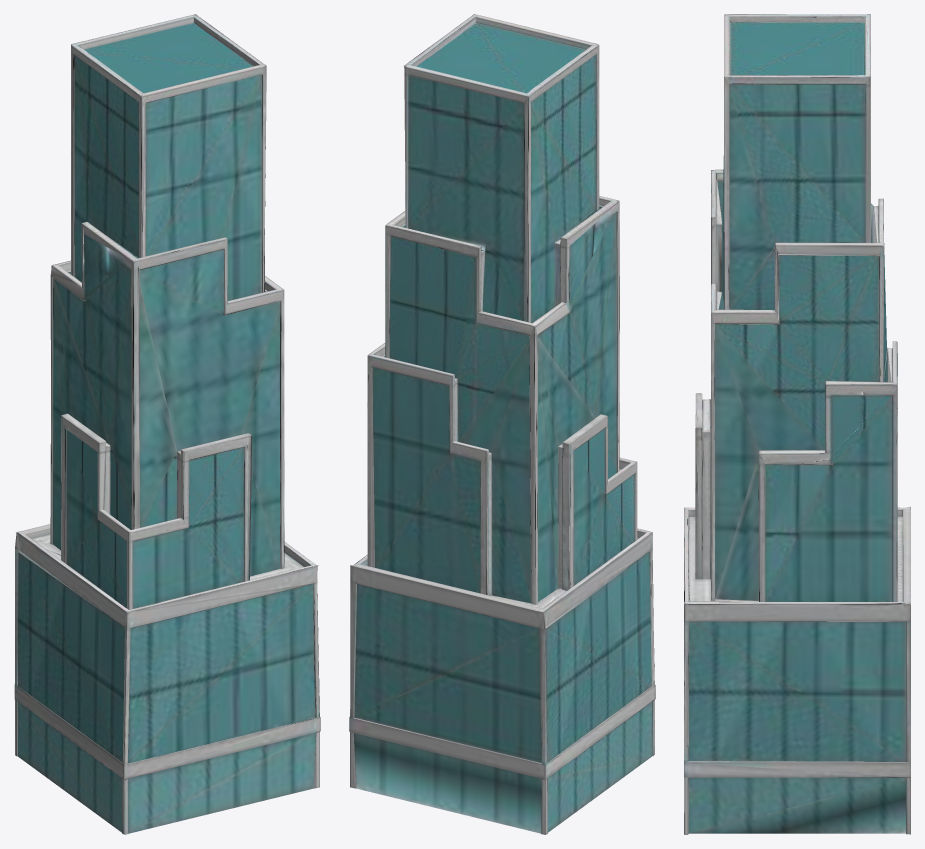
The model's file is 15-glass-skyscraper.glb.
The picture shows the model from 3 angles, left to right: view 1: azimuth 30°, elevation 25°; view 2: azimuth 150°, elevation 25°; view 3: azimuth 270°, elevation 25°; orthographic projection. The views are drawn at different scales.
Visible parts, largest first — view 1: geometry_0; view 2: geometry_0; view 3: geometry_0.
Part boxes in pixels (x1,y1,x2,y2): geometry_0: (14, 14, 320, 834); geometry_0: (349, 14, 655, 834); geometry_0: (684, 14, 910, 834).
Bounding box in the file's own units: 0.273 × 0.9512 × 0.2642.
1 material, 1 textured.
